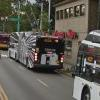Bus: (2, 27, 66, 73)
